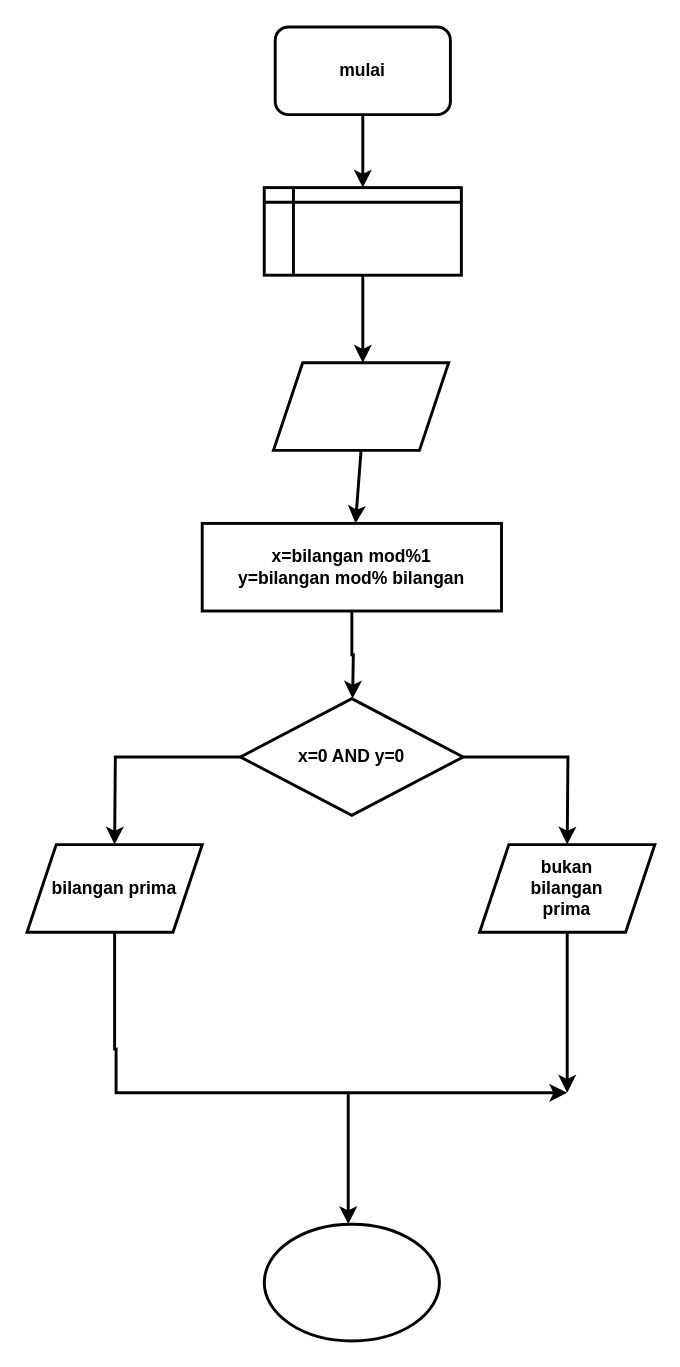
Some shapes in this 680 by 1367 pixel diagram are drawn without their labels. Here are the shapes that lost their labels. From the top down, the centre of each, then its label:
At [362,230]: "ineger bilangan".
At [360,406]: "masukan bilangan".
At [351,1282]: "selesai".
